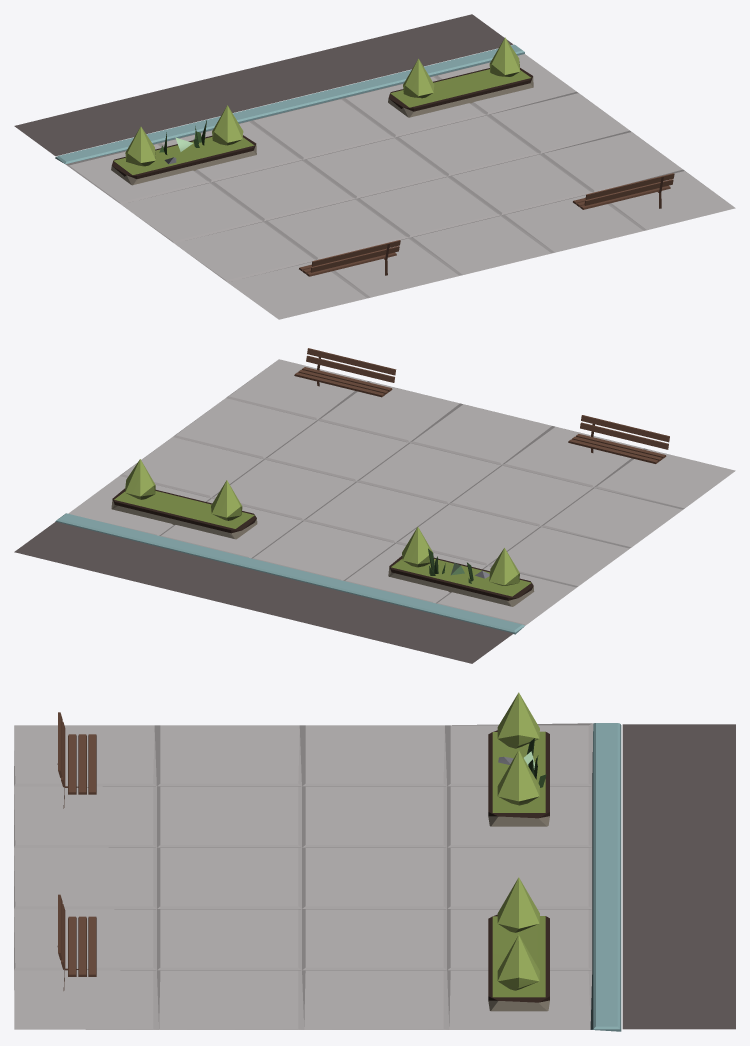
Rendered from QmY6qxoFr7onyL5dZQQfSVkT87yXmpk6eEfypfFfNYSbVM_lod2.fbx.
The picture shows the model from 3 angles, top to bottom: view 1: azimuth 30°, elevation 25°; view 2: azimuth 150°, elevation 25°; view 3: azimuth 270°, elevation 25°; orthographic projection. The views are drawn at different scales.
Visible parts, largest first — view 1: Entity_512; view 2: Entity_512; view 3: Entity_512.
Boxes of the visible parts, x1,y1,x2,y2 form: Entity_512: (14,14,735,319); Entity_512: (14,348,735,663); Entity_512: (14,692,735,1031).
Size of the model in its own units: 16000 by 1591 by 15918.
Materials: 1 (1 with a texture image).
